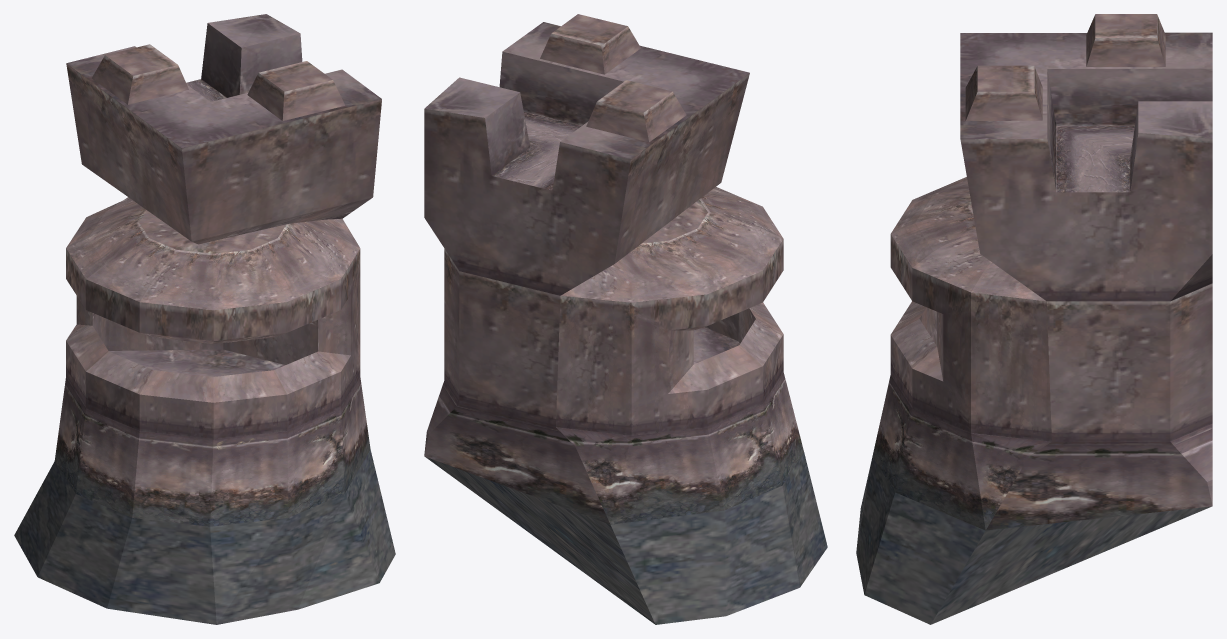
File: C4SMWA10LAH.obj
3 renders of one model, left to right at view 1: azimuth 30°, elevation 25°; view 2: azimuth 150°, elevation 25°; view 3: azimuth 270°, elevation 25°, orthographic. The views are drawn at different scales.
Parts seen in each view (by area): view 1: Node 0; view 2: Node 0; view 3: Node 0.
Boxes of the visible parts, box(x1,y1,x2,y2) form: Node 0: box(14, 14, 395, 624); Node 0: box(424, 14, 827, 624); Node 0: box(856, 14, 1212, 624).
Bounding box in the file's own units: 7.39 × 11.16 × 7.05.
Materials: 3 (3 with a texture image).
